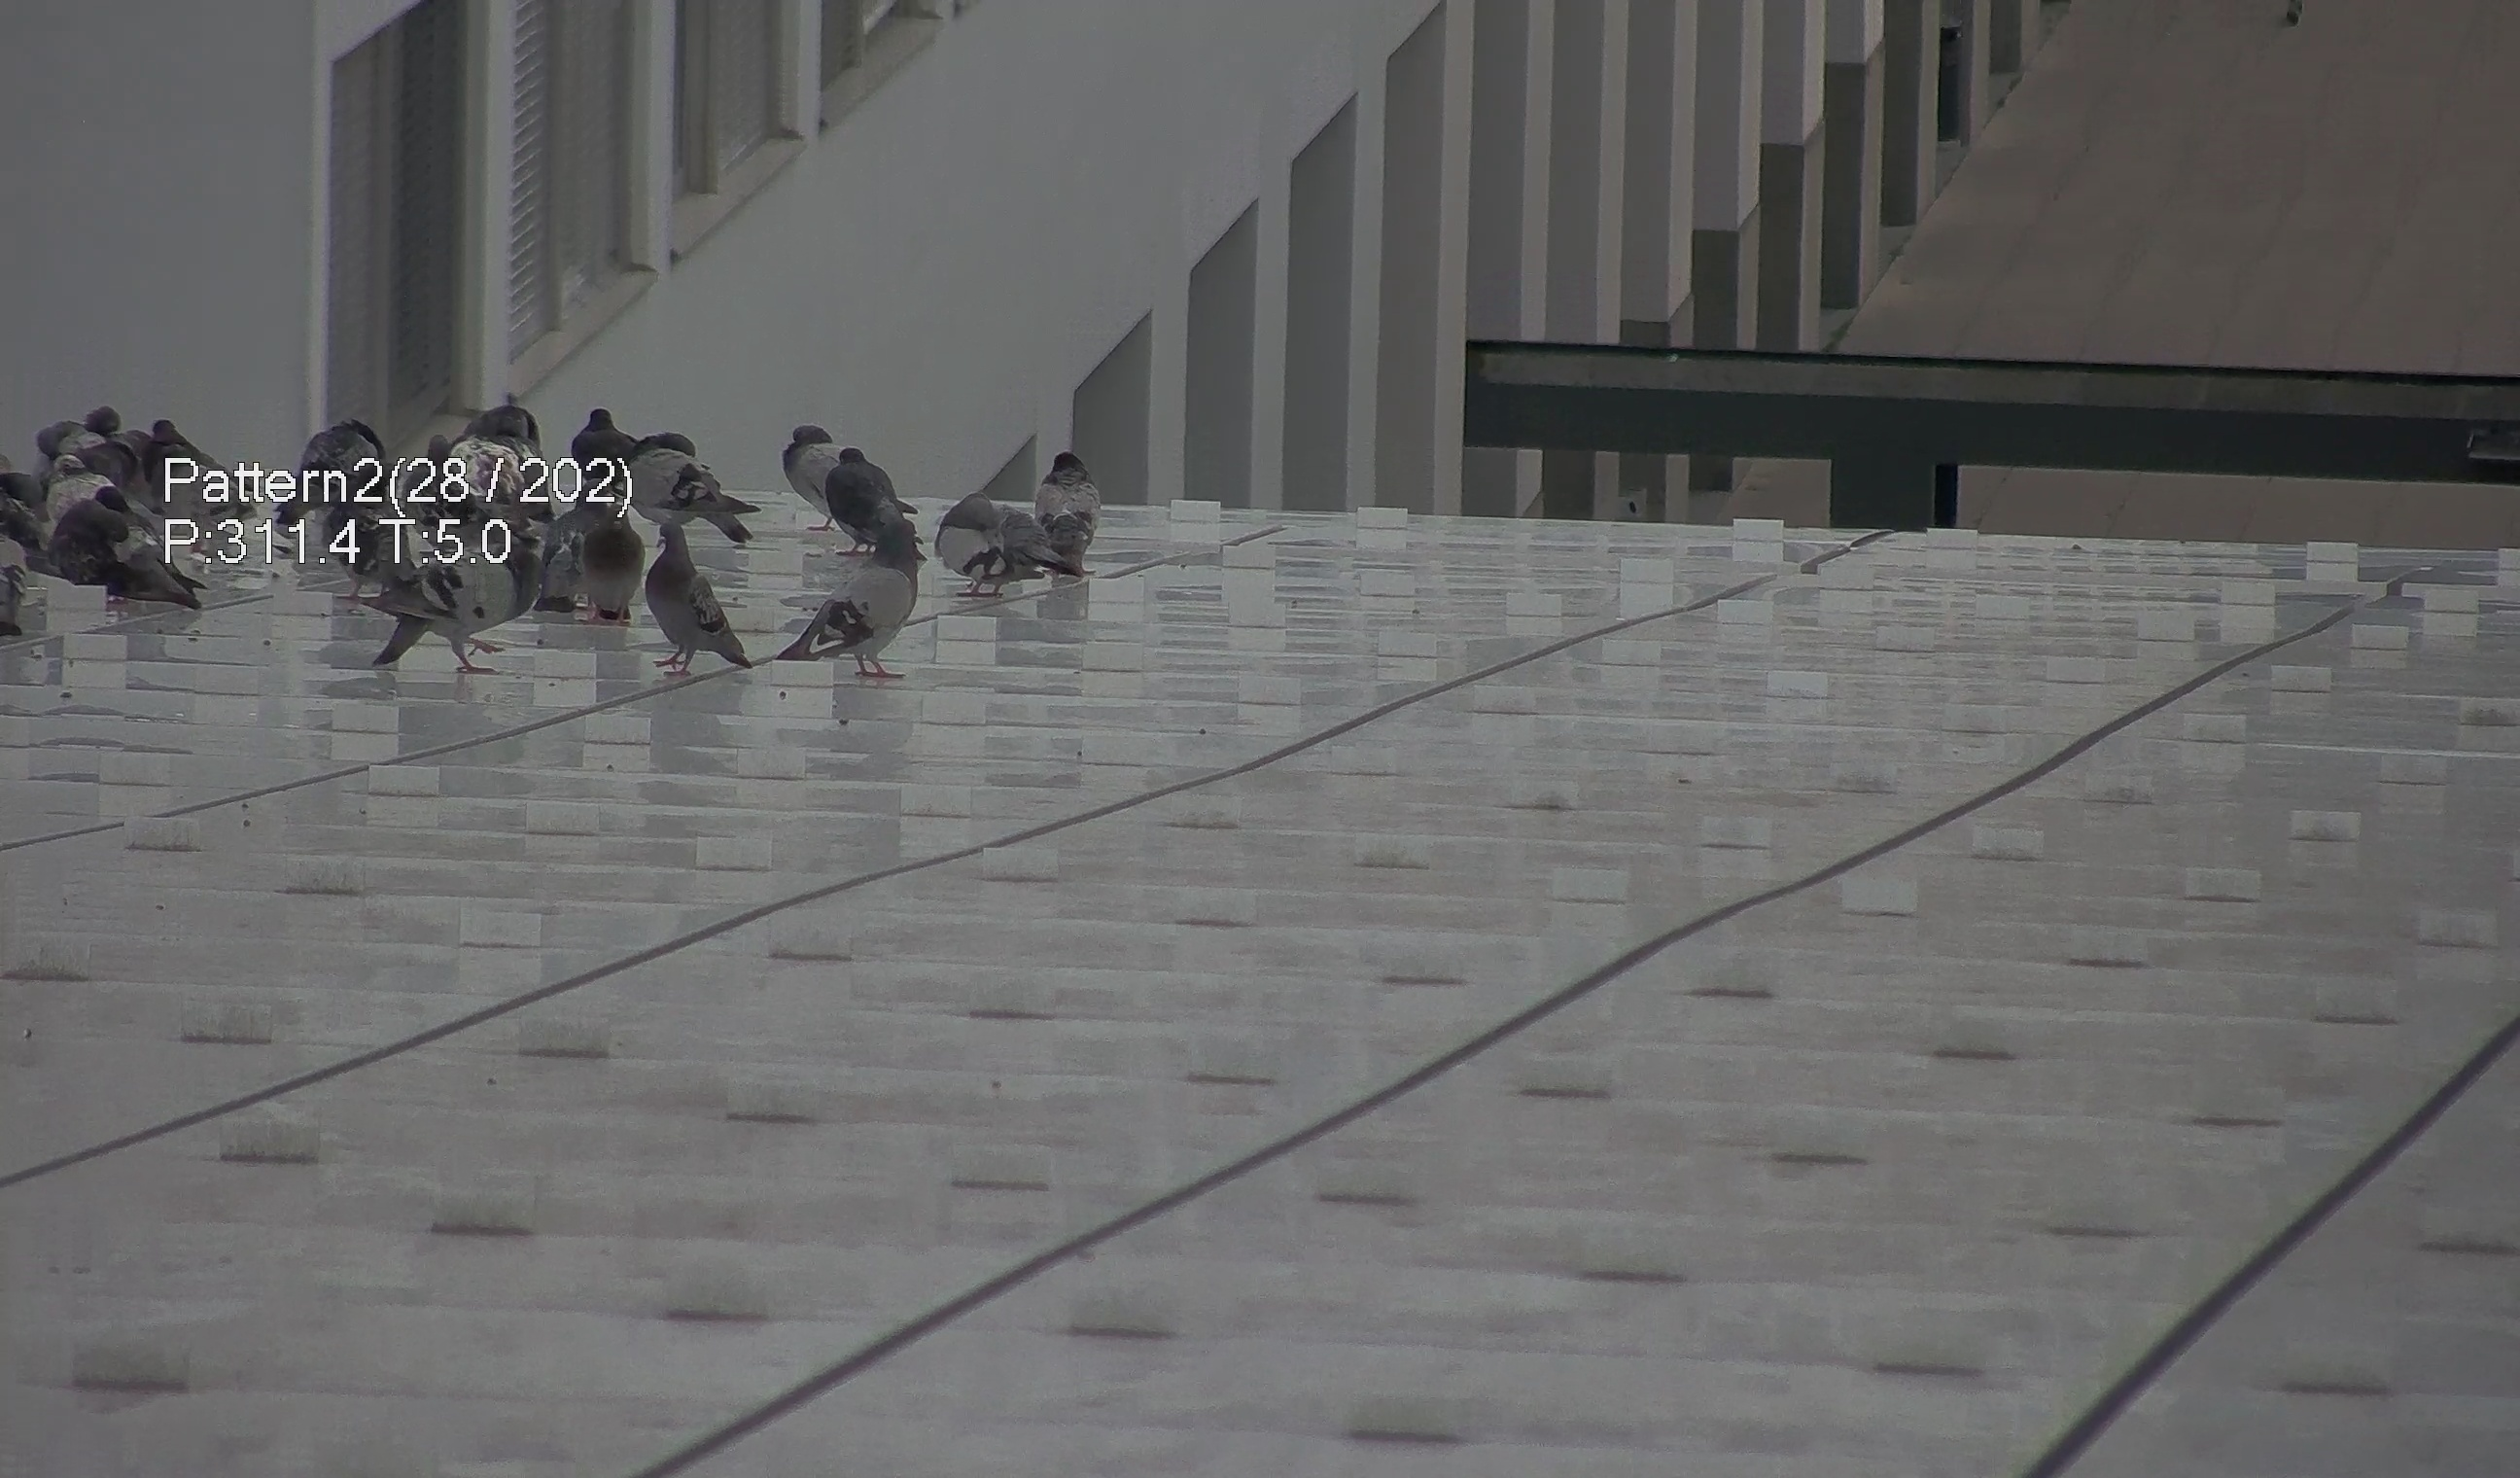Pigeon: (352, 496, 547, 688), (770, 521, 927, 688), (47, 484, 216, 616), (628, 531, 751, 672), (529, 482, 644, 621), (273, 415, 394, 531), (930, 501, 1069, 595), (1027, 442, 1115, 579), (454, 401, 556, 519), (818, 438, 911, 563), (623, 431, 751, 521), (146, 419, 234, 544), (784, 417, 849, 528), (46, 450, 114, 526), (568, 410, 637, 482)
